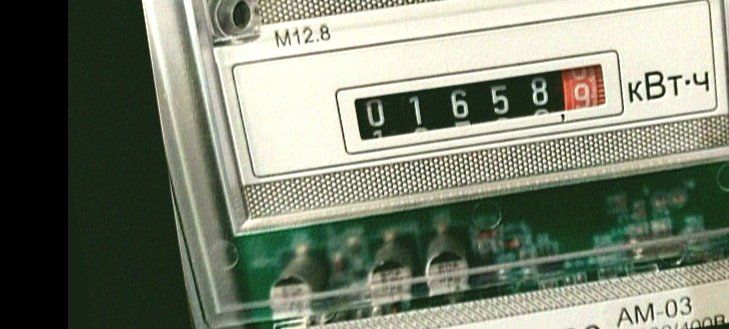0: (364, 96, 389, 128)
1: (407, 93, 429, 127)
5: (489, 82, 514, 115)
6: (449, 85, 473, 120)
8: (529, 73, 553, 107)
9: (570, 80, 595, 111)
screen: (326, 37, 635, 164)
